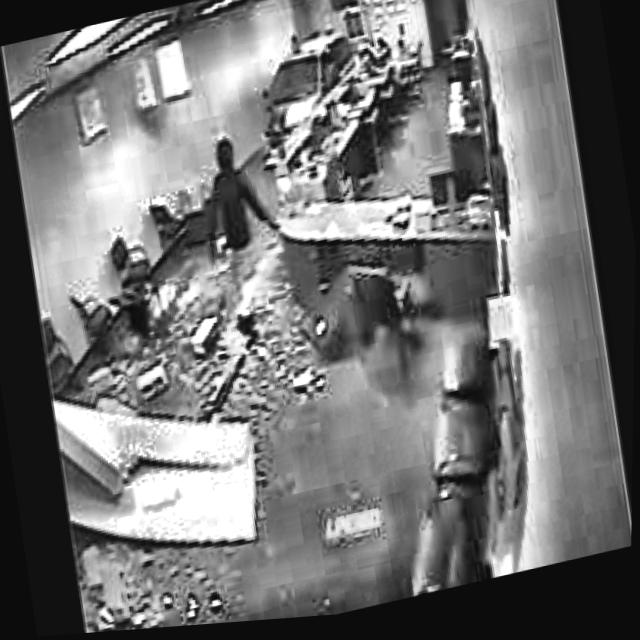burglary: (179, 119, 308, 360), (239, 14, 392, 186)
